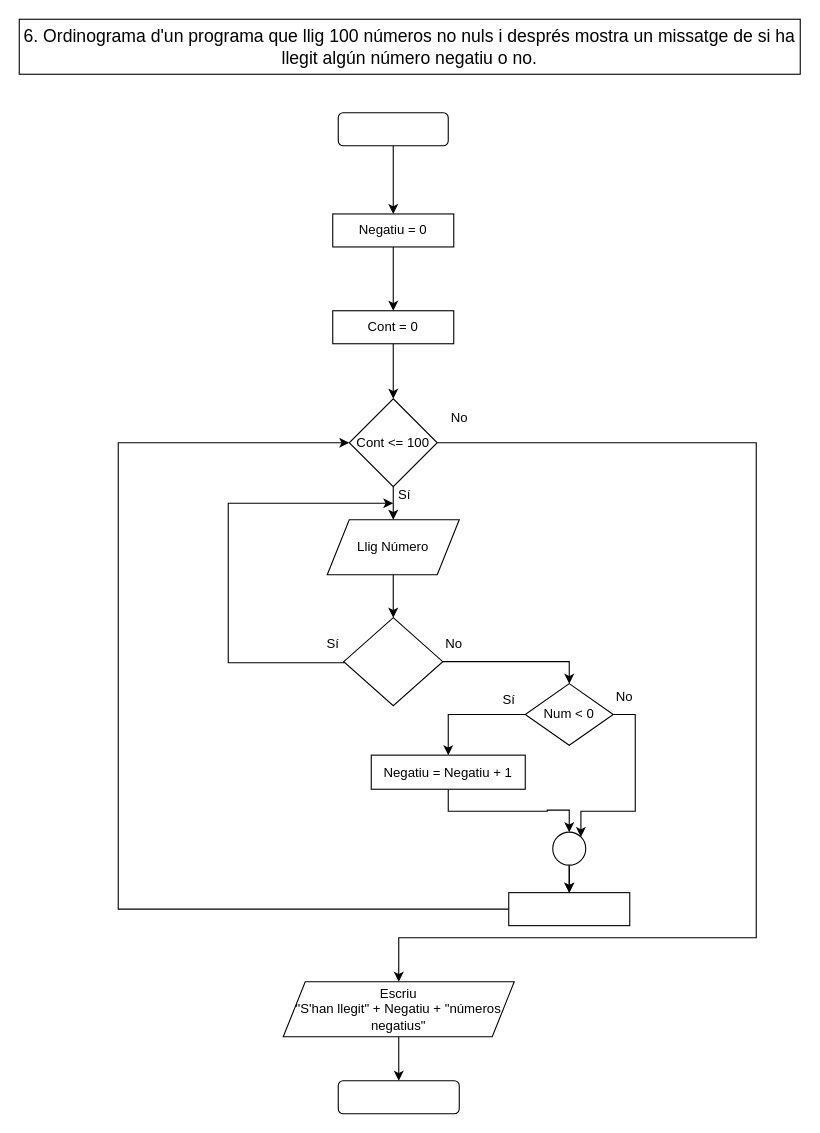
Image size: 820x1133. Some labels were removed from this diagram. The centre of each missing label's shape, as x and y in pixels:
Cont = Cont + 1: point (569, 909)
Fi: point (398, 1097)
Inici: point (392, 129)
Número = 0: point (393, 661)
